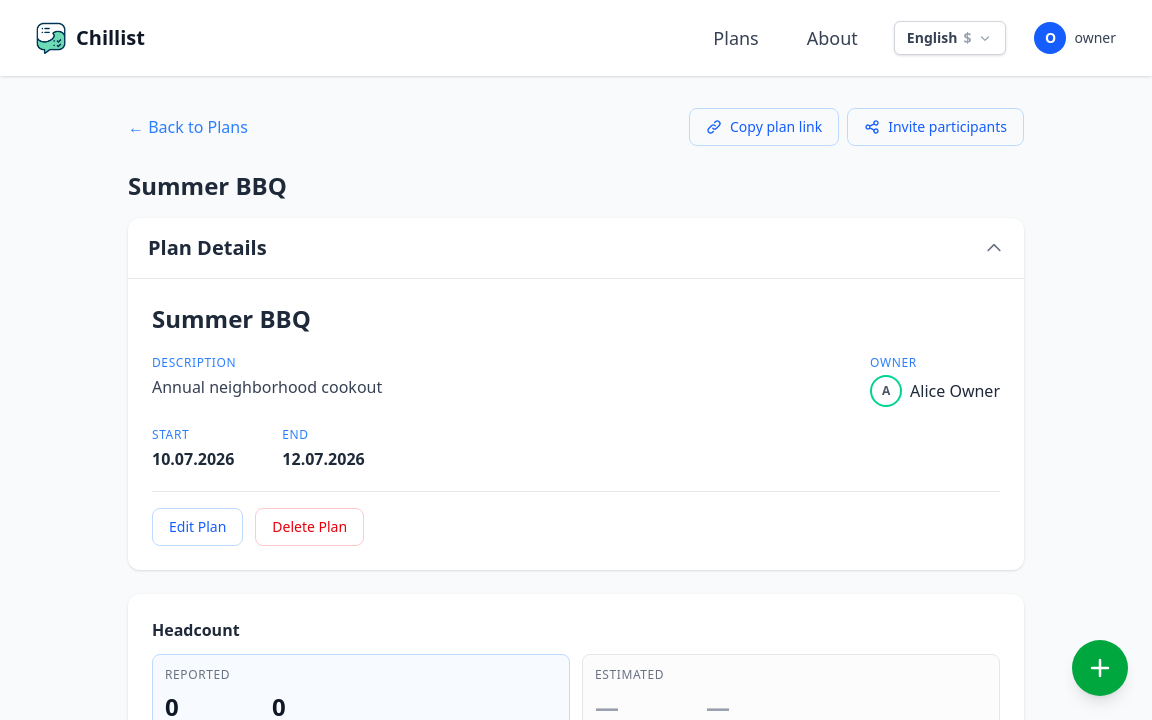
Scenario: PlanRoute — Integration › owner sees full plan with role-based UI › renders the Add Multiple FAB action for owner via speed dial
Click the button with test id "speed-dial-trigger". click: (1100, 668)
box: [1072,640,1128,696]
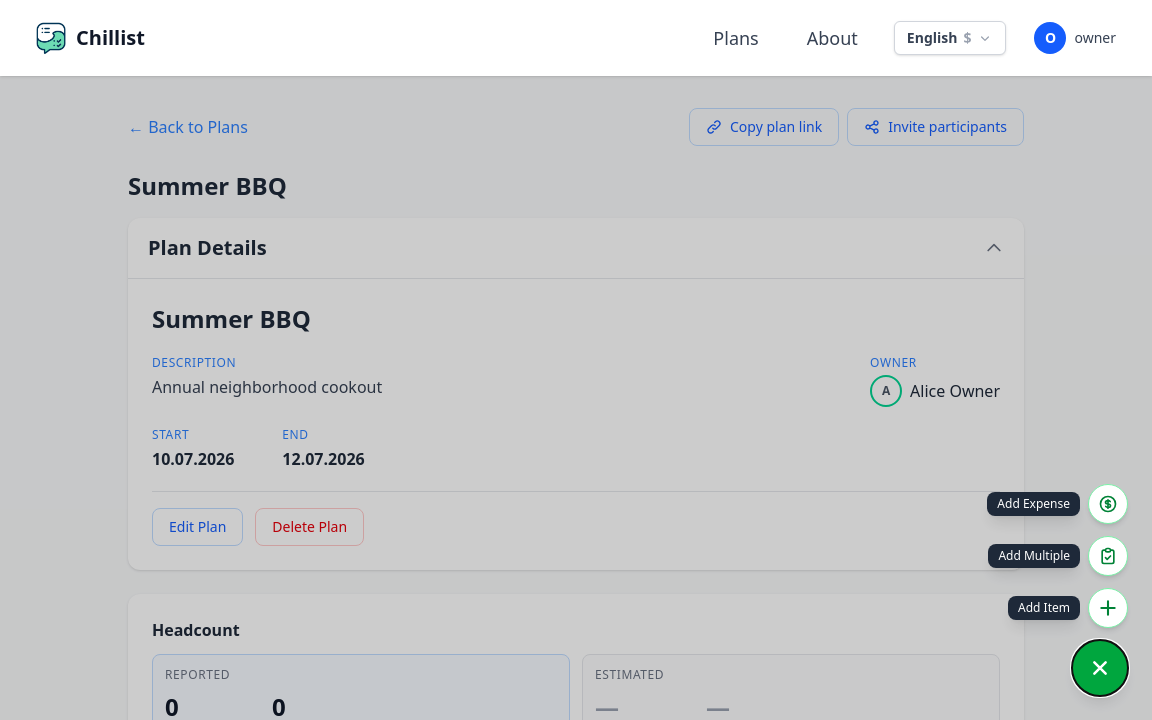
expect the button with test id "bulk-add-fab" is shown: met, box [1088,536,1128,576]
